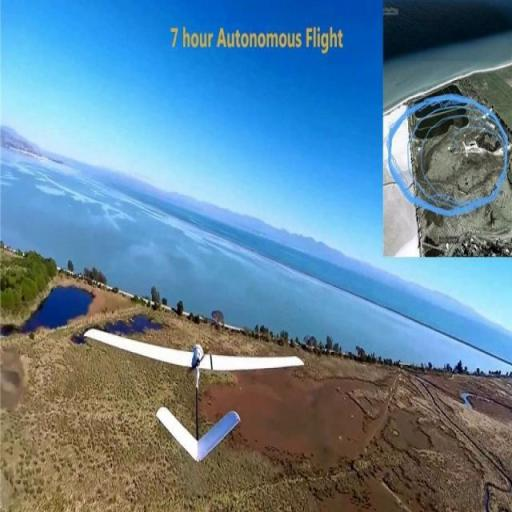uav: (83, 316, 308, 468)
